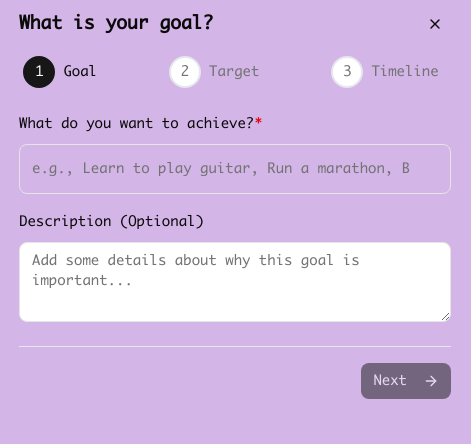
Test: InlineGoalCreation - Goal Validation › Client-side validation › shows error for input without action verbs
This screenshot has width=471, height=444.
Type "aaaaaaaaaa" into the field with placeholder "Learn to play guitar".
click(235, 169); type("aaaaaaaaaa")  # box [19,144,451,194]
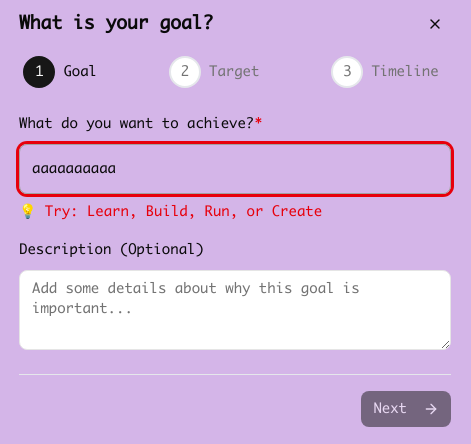
Check: the text "💡 Try: Learn, Build, Run, or Create" is shown, box [19,205,322,219]
